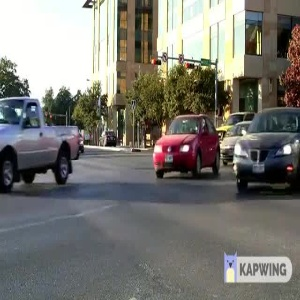car: (229, 107, 300, 200), (140, 113, 225, 179)
truck: (1, 98, 82, 186)
